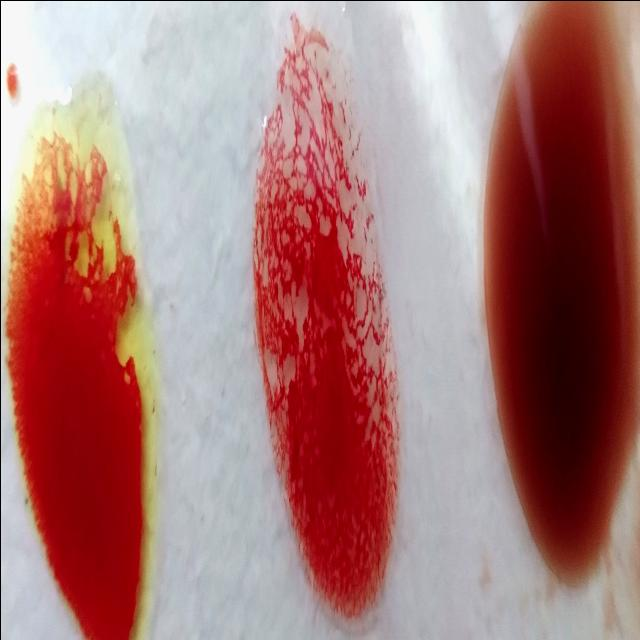B: (5, 96, 150, 640)
D: (258, 53, 390, 620)
